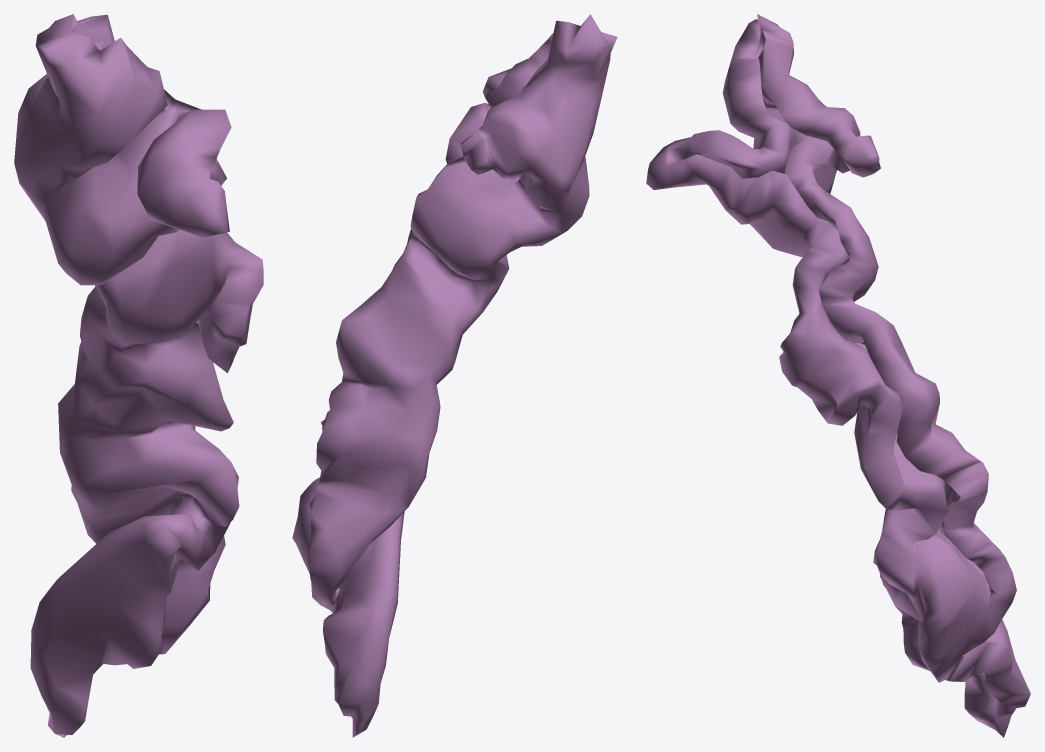
The picture shows the model from 3 angles, left to right: view 1: azimuth 30°, elevation 25°; view 2: azimuth 150°, elevation 25°; view 3: azimuth 270°, elevation 25°; orthographic projection. The views are drawn at different scales.
Parts seen in each view (by area): view 1: 左侧颞上沟; view 2: 左侧颞上沟; view 3: 左侧颞上沟.
Boxes of the visible parts, box(x1,y1,x2,y2) form: 左侧颞上沟: box(14, 14, 263, 737); 左侧颞上沟: box(292, 14, 617, 737); 左侧颞上沟: box(646, 14, 1030, 737).
Size of the model in its own units: 0.0527 by 0.1453 by 0.0759.
